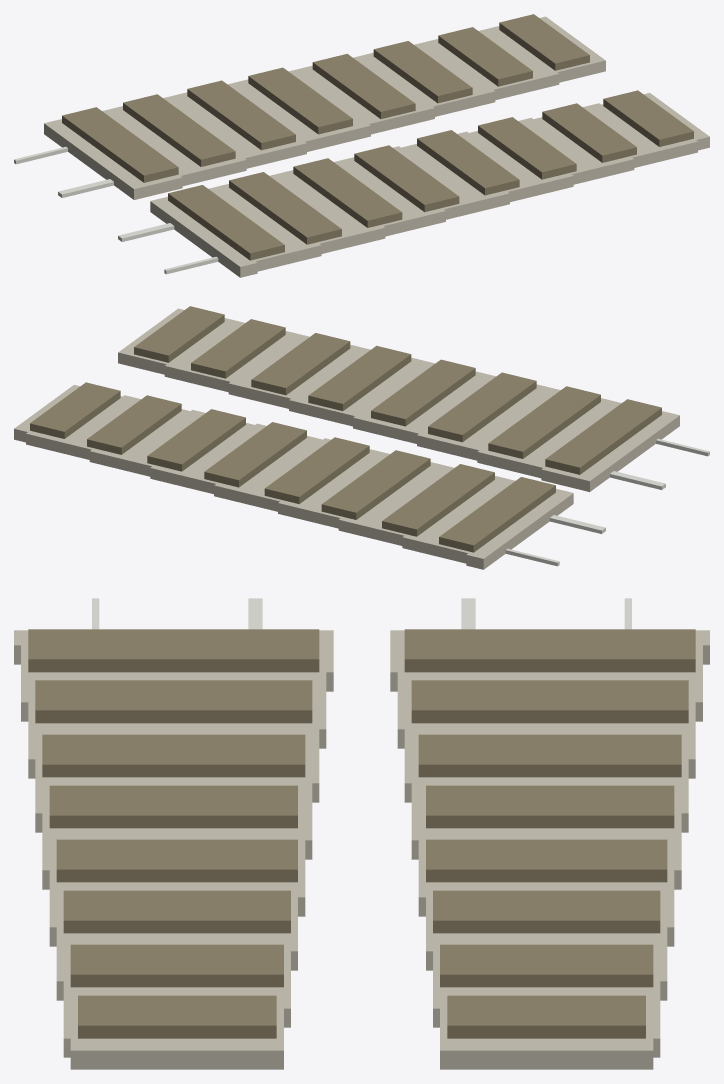
The model's file is cloth_arms_padded.glb.
3 views of the same model, one above another, from view 1: azimuth 30°, elevation 25°; view 2: azimuth 150°, elevation 25°; view 3: azimuth 270°, elevation 25° (orthographic). The views are drawn at different scales.
Parts seen in each view (by area): view 1: cloth_arms_padded:compound; view 2: cloth_arms_padded:compound; view 3: cloth_arms_padded:compound.
Boxes of the visible parts, x1,y1,x2,y2 form: cloth_arms_padded:compound: (14, 14, 709, 277); cloth_arms_padded:compound: (14, 306, 709, 569); cloth_arms_padded:compound: (14, 598, 709, 1069).
Bounding box in the file's own units: 0.62 × 0.02 × 0.392.
